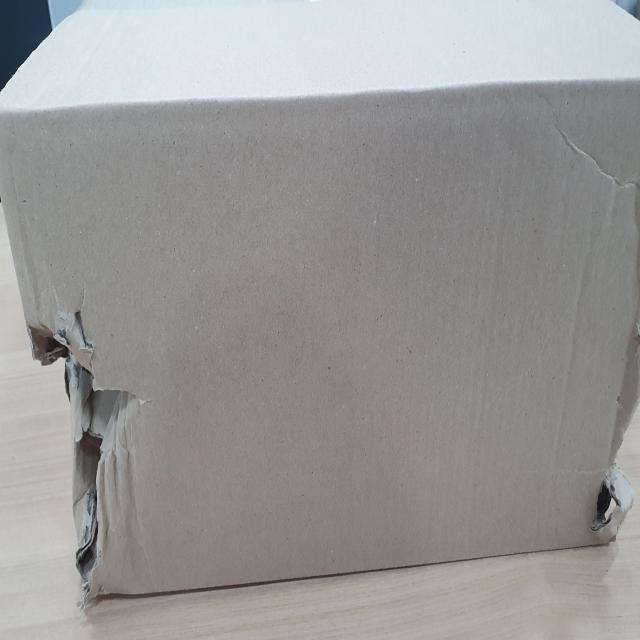damaged: (29, 311, 140, 600), (595, 469, 619, 552)
